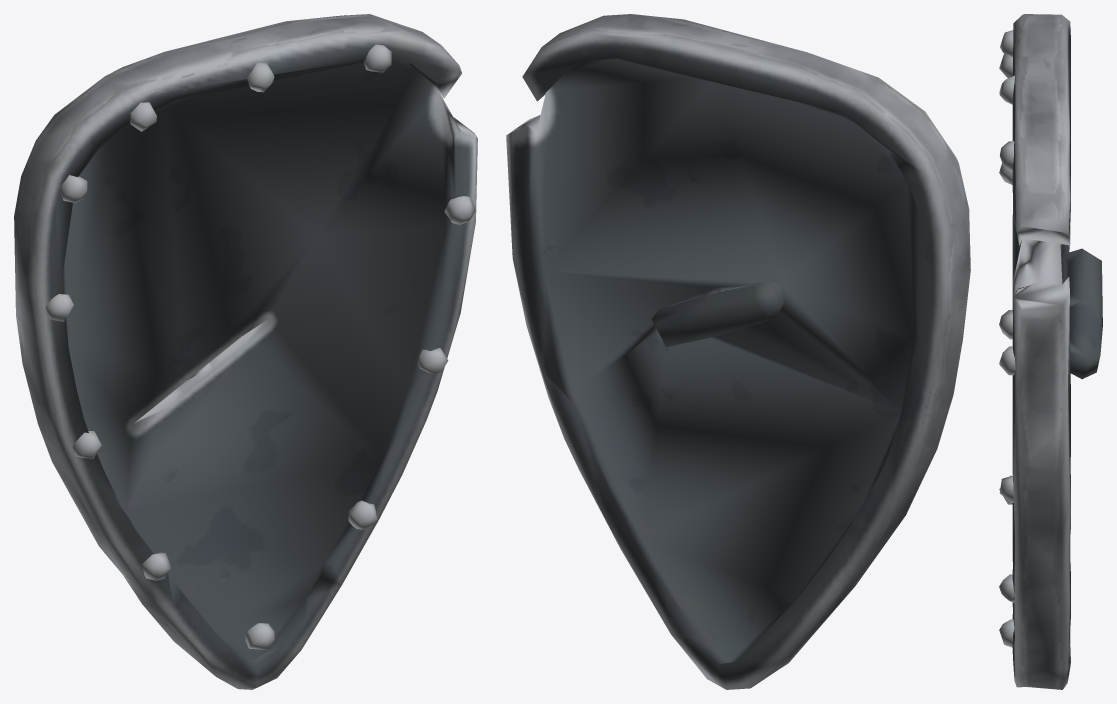
Rendered from skeleton-knight-shield.glb.
The picture shows the model from 3 angles, left to right: view 1: azimuth 30°, elevation 25°; view 2: azimuth 150°, elevation 25°; view 3: azimuth 270°, elevation 25°; orthographic projection. The views are drawn at different scales.
Parts seen in each view (by area): view 1: kite-shield; view 2: kite-shield; view 3: kite-shield.
Part boxes in pixels (<box>): kite-shield: <box>14,14,477,689</box>; kite-shield: <box>506,14,970,689</box>; kite-shield: <box>999,14,1102,689</box>.
Size of the model in its own units: 0.2925 by 0.3993 by 0.0604.
Materials: 1 (1 with a texture image).
